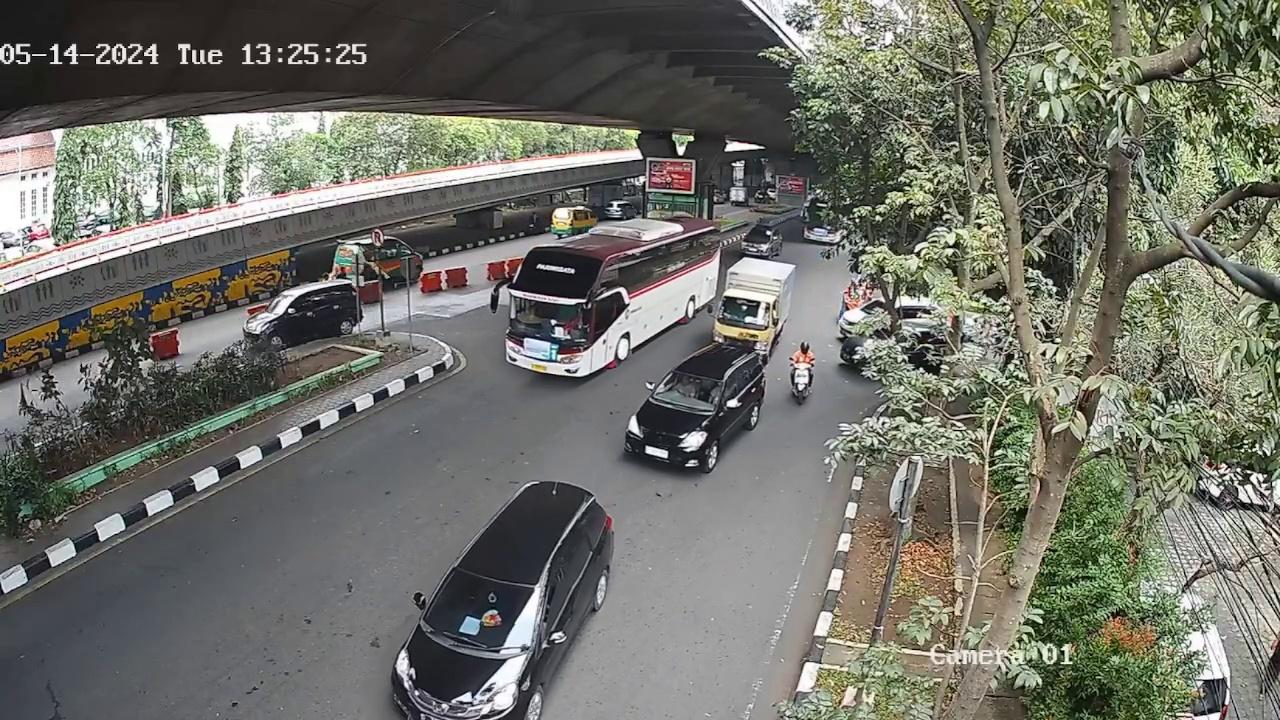tidak-pakai: (675, 377, 696, 398)
windshield: (418, 571, 550, 655), (658, 367, 722, 411)
